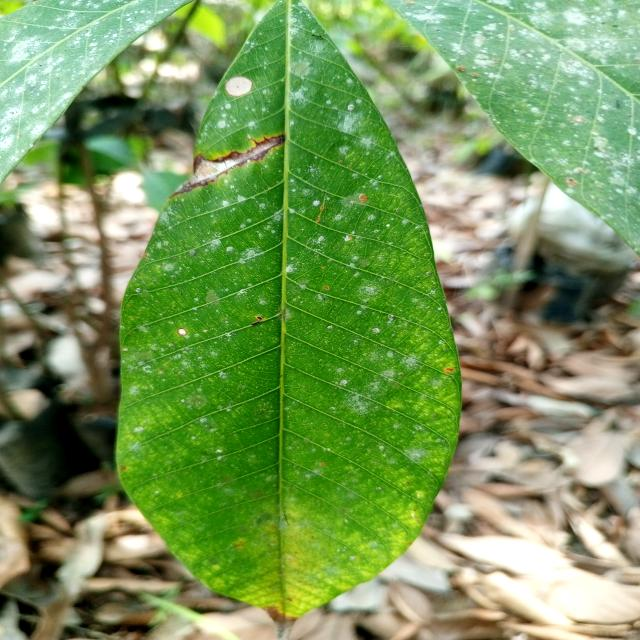Colletotrichum: (177, 328, 187, 335)
Corynespora: (169, 135, 286, 198)
Leaf-Blight: (225, 77, 252, 96)
